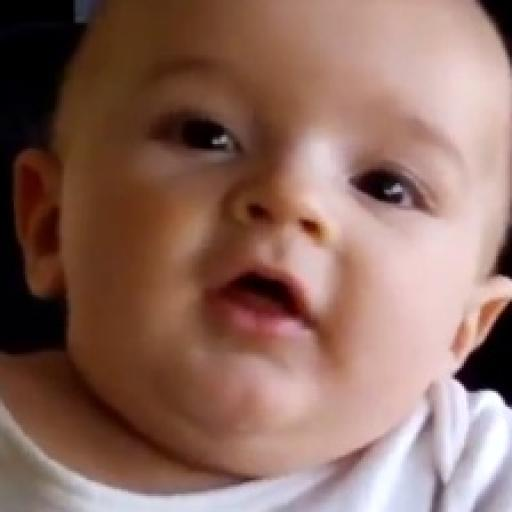Autism: (73, 32, 512, 473)
